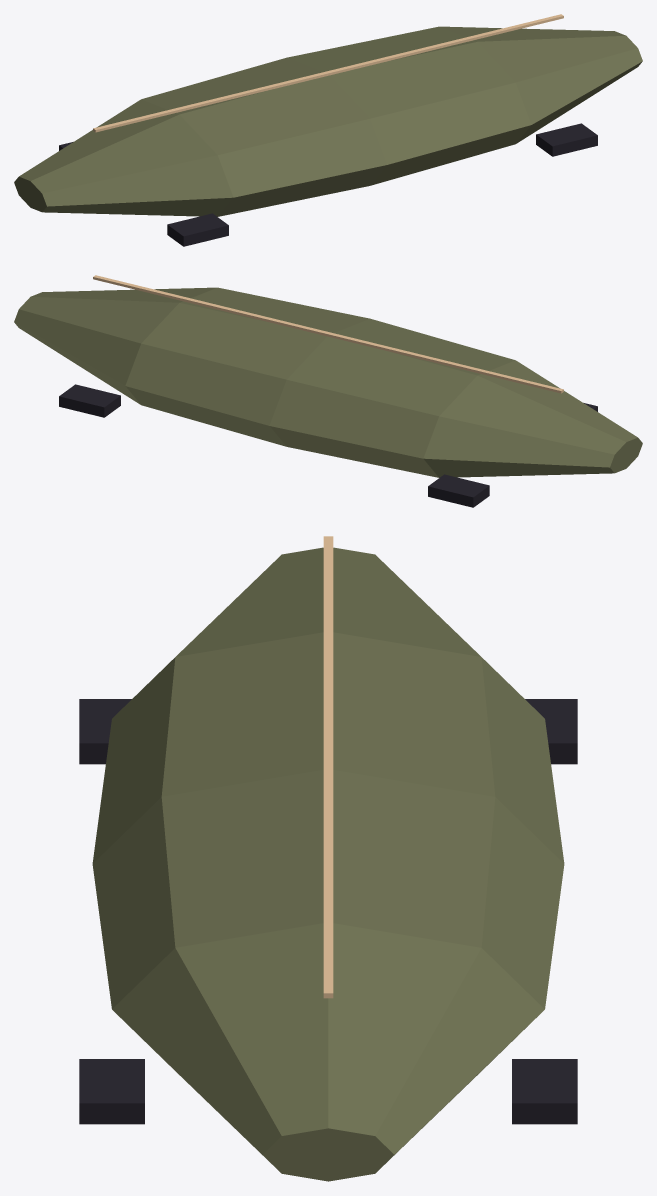
The model's file is decay.body-bag.lod1.glb.
The picture shows the model from 3 angles, top to bottom: view 1: azimuth 30°, elevation 25°; view 2: azimuth 150°, elevation 25°; view 3: azimuth 270°, elevation 25°; orthographic projection. The views are drawn at different scales.
Parts seen in each view (by area): view 1: body; view 2: body; view 3: body.
Part boxes in pixels (<box>): body: <box>14,14,642,246</box>; body: <box>14,275,642,507</box>; body: <box>79,536,577,1181</box>.
Bounding box in the file's own units: 2.1 × 0.327 × 0.76.
